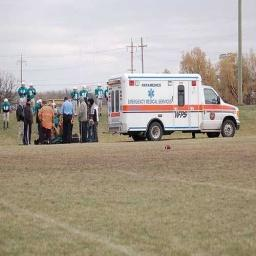Ambulance: (108, 74, 239, 140)
